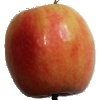apple: (6, 4, 95, 98)
